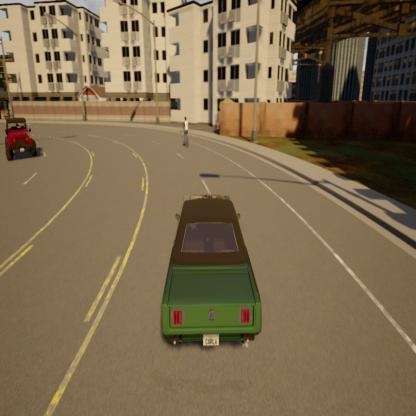Cars: (152, 178, 272, 363), (0, 111, 43, 170)
